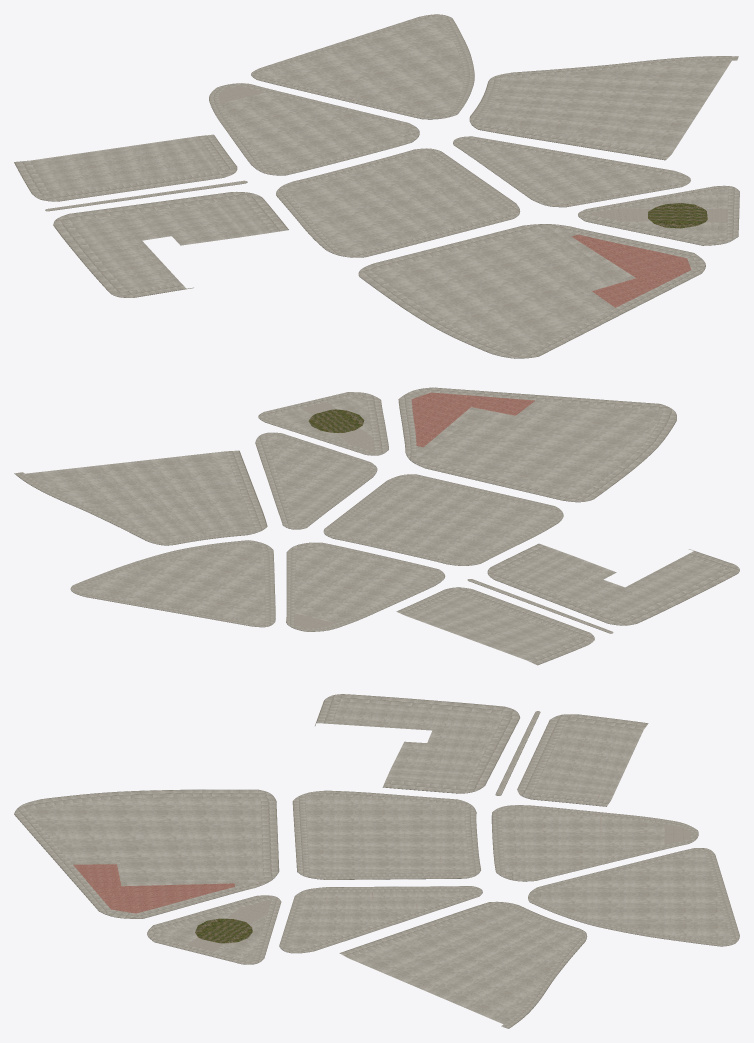
The picture shows the model from 3 angles, top to bottom: view 1: azimuth 30°, elevation 25°; view 2: azimuth 150°, elevation 25°; view 3: azimuth 270°, elevation 25°; orthographic projection. The views are drawn at different scales.
Parts seen in each view (by area): view 1: MeshBaker__1__mesh_mesh; view 2: MeshBaker__1__mesh_mesh; view 3: MeshBaker__1__mesh_mesh.
Part boxes in pixels (x1,y1,x2,y2): MeshBaker__1__mesh_mesh: [14, 14, 739, 358]; MeshBaker__1__mesh_mesh: [14, 387, 739, 665]; MeshBaker__1__mesh_mesh: [14, 694, 739, 1028].
Size of the model in its own units: 484 by 0.1301 by 444.
